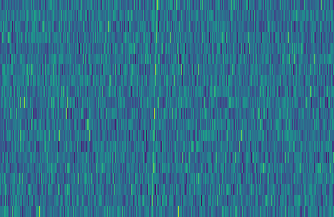signal: (147, 0, 161, 217)
